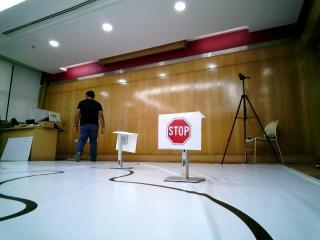stop: (159, 116, 197, 146)
